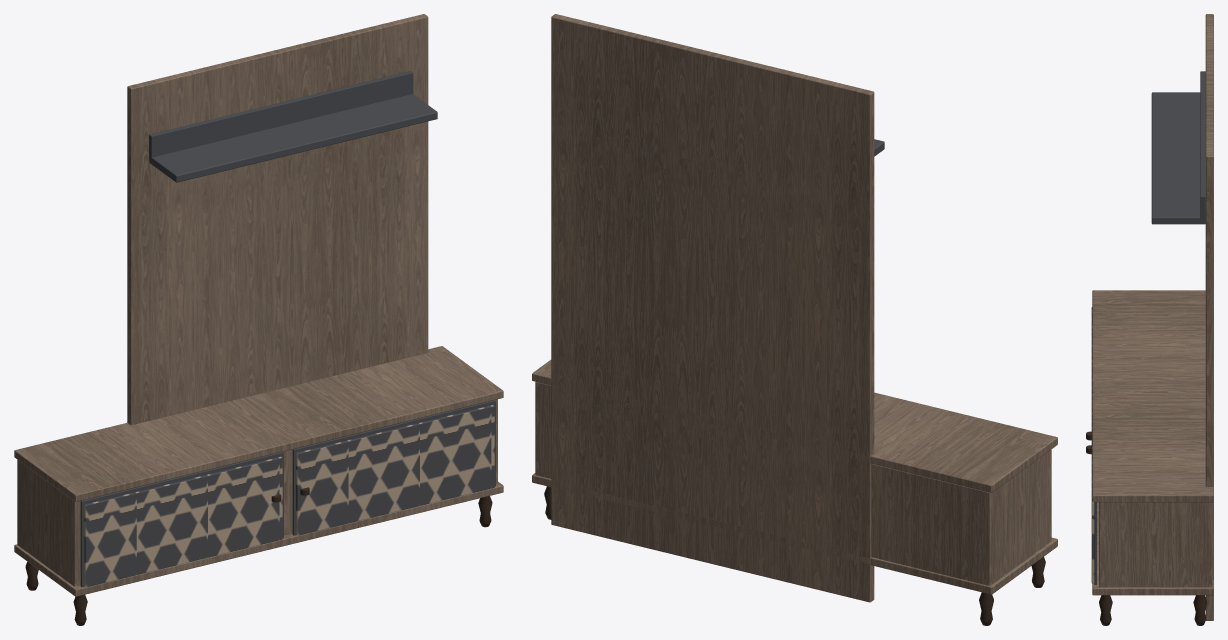
File: hunkar-tv-stand.glb
The picture shows the model from 3 angles, left to right: view 1: azimuth 30°, elevation 25°; view 2: azimuth 150°, elevation 25°; view 3: azimuth 270°, elevation 25°; orthographic projection. The views are drawn at different scales.
Visible parts, largest first — view 1: panel, top, door1, door0, shelf, body, shelfback, bottom, frame0, frame1; view 2: panel, body, top, bottom; view 3: top, body, shelf, panel, bottom, shelfback, door1, leg11, leg1-1, frame1, door0.
Part boxes in pixels (x1,y1,x2,y2): panel: (127,14,428,425); top: (14,346,503,501); door1: (296,405,494,535); door0: (84,456,282,587); shelf: (149,94,437,182); body: (17,399,497,586); shelfback: (149,71,413,159); bottom: (14,481,503,596); frame0: (80,451,283,587); frame1: (292,400,495,535); panel: (551,14,874,602); body: (535,382,1051,585); top: (532,360,1057,492); bottom: (532,473,1057,594); top: (1092,290,1213,502); body: (1099,502,1212,587); shelf: (1151,92,1205,224); panel: (1205,14,1213,620); bottom: (1092,502,1213,595); shelfback: (1200,71,1205,220); door1: (1091,409,1094,583); leg11: (1193,595,1207,625); leg1-1: (1099,595,1112,625); frame1: (1094,502,1096,584); door0: (1091,307,1092,408).
Size of the model in its own units: 1.8 by 1.9 by 0.473.
Materials: 4 (2 with a texture image).
